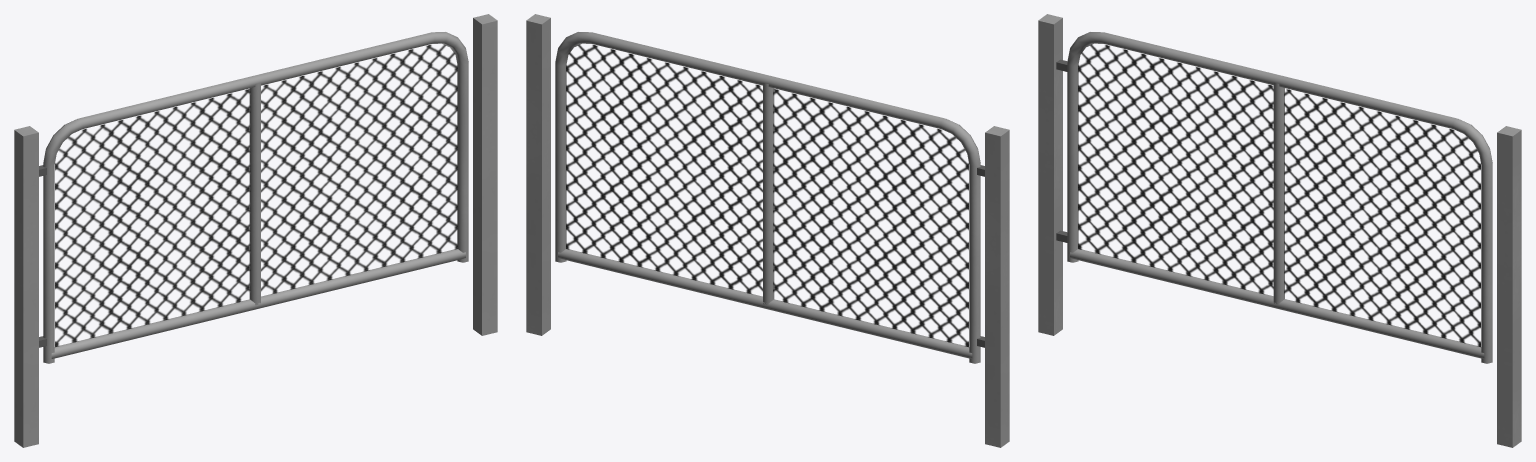
File: fence-chainlink-gate-2m-cbj_LOD01.gltf
The picture shows the model from 3 angles, left to right: view 1: azimuth 30°, elevation 25°; view 2: azimuth 150°, elevation 25°; view 3: azimuth 330°, elevation 25°; orthographic projection.
Parts seen in each view (by area): view 1: post.003; view 2: post.003; view 3: post.003.
Boxes of the visible parts, x1,y1,x2,y2 form: post.003: (14,14,497,447); post.003: (526,14,1009,447); post.003: (1038,14,1521,447).
Bounding box in the file's own units: 2.12 × 1.33 × 0.07.
